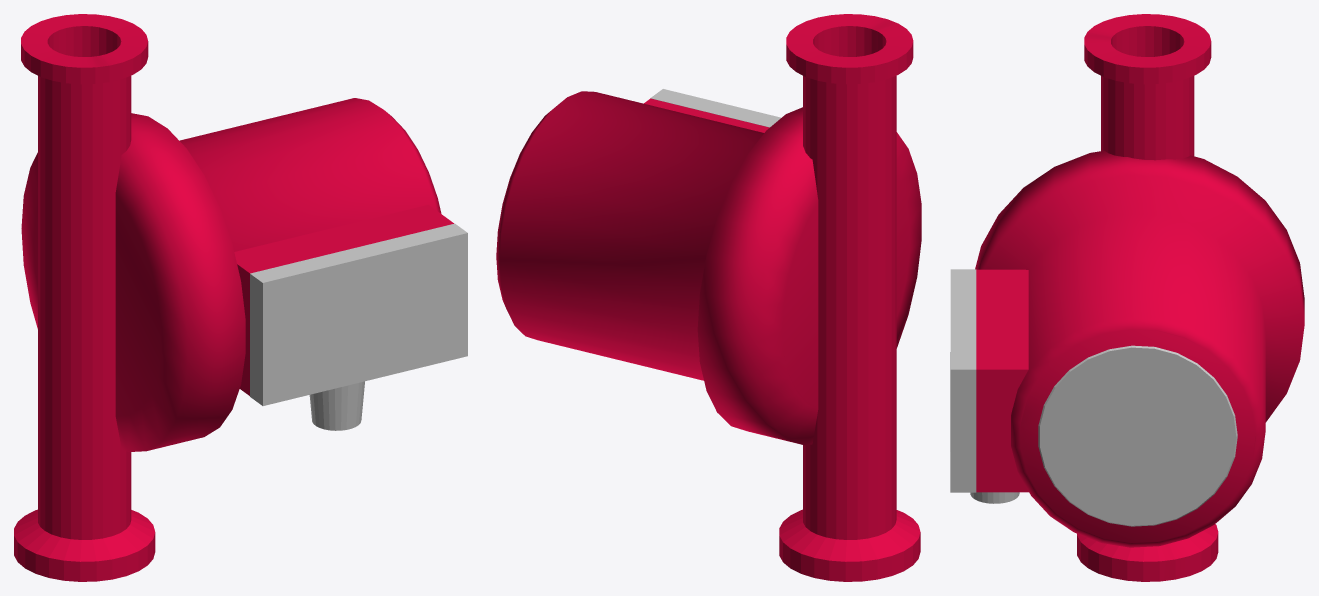
Rendered from цирк.fbx.
3 views of the same model, side by side, from view 1: azimuth 30°, elevation 25°; view 2: azimuth 150°, elevation 25°; view 3: azimuth 270°, elevation 25° (orthographic).
Visible parts, largest first — view 1: Cylinder.036, Cylinder.037, Cube.015, Cube.014, Cylinder.038; view 2: Cylinder.036, Cylinder.037, Cube.015, Cube.014; view 3: Cylinder.036, Cylinder.039, Cylinder.037, Cube.014, Cube.015, Cylinder.038.
Part boxes in pixels (bbox=[...]): Cylinder.036: bbox=[21, 98, 441, 451]; Cylinder.037: bbox=[14, 14, 155, 581]; Cube.015: bbox=[250, 223, 467, 405]; Cube.014: bbox=[234, 204, 453, 395]; Cylinder.038: bbox=[309, 381, 364, 430]; Cylinder.036: bbox=[496, 91, 921, 445]; Cylinder.037: bbox=[779, 14, 920, 581]; Cube.015: bbox=[650, 89, 781, 127]; Cube.014: bbox=[644, 98, 769, 132]; Cylinder.036: bbox=[975, 150, 1304, 547]; Cylinder.039: bbox=[1038, 345, 1237, 526]; Cylinder.037: bbox=[1077, 14, 1218, 581]; Cube.014: bbox=[976, 269, 1028, 492]; Cube.015: bbox=[950, 269, 976, 492]; Cylinder.038: bbox=[970, 492, 1019, 503].
Bounding box in the file's own units: 150 × 203 × 127.
